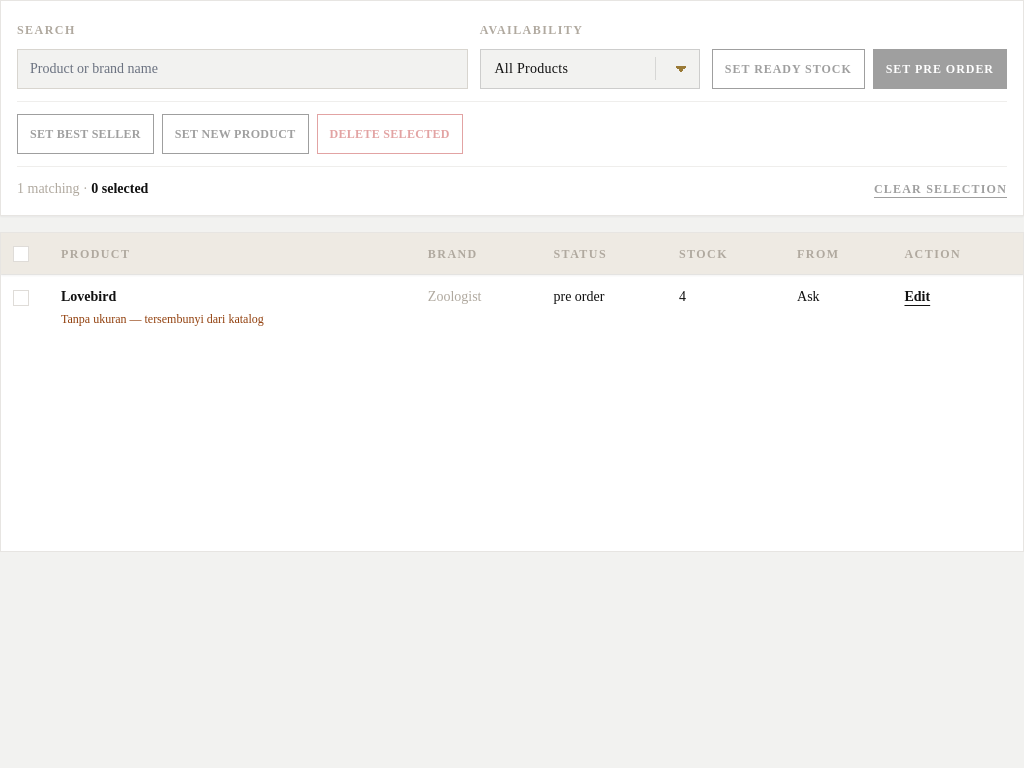
Test: catalog management UI › clears product selection on search and shows variantless indicator
Check: the text "Tanpa ukuran — tersembunyi dari katalog" is shown, box 61,311 -> 264,327
Click the checkbox named "Select Lovebird" at coordinates (21, 298), box 13,290 -> 29,306
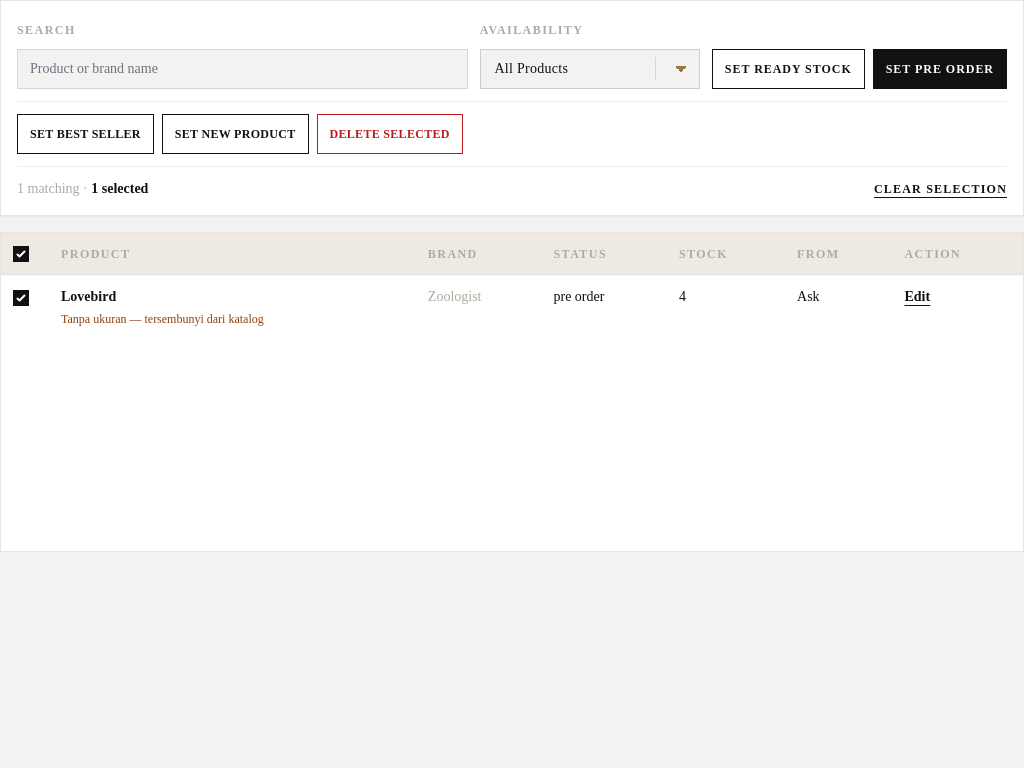
Type "Love" into the search field at coordinates (242, 69), box 17,49 -> 468,89
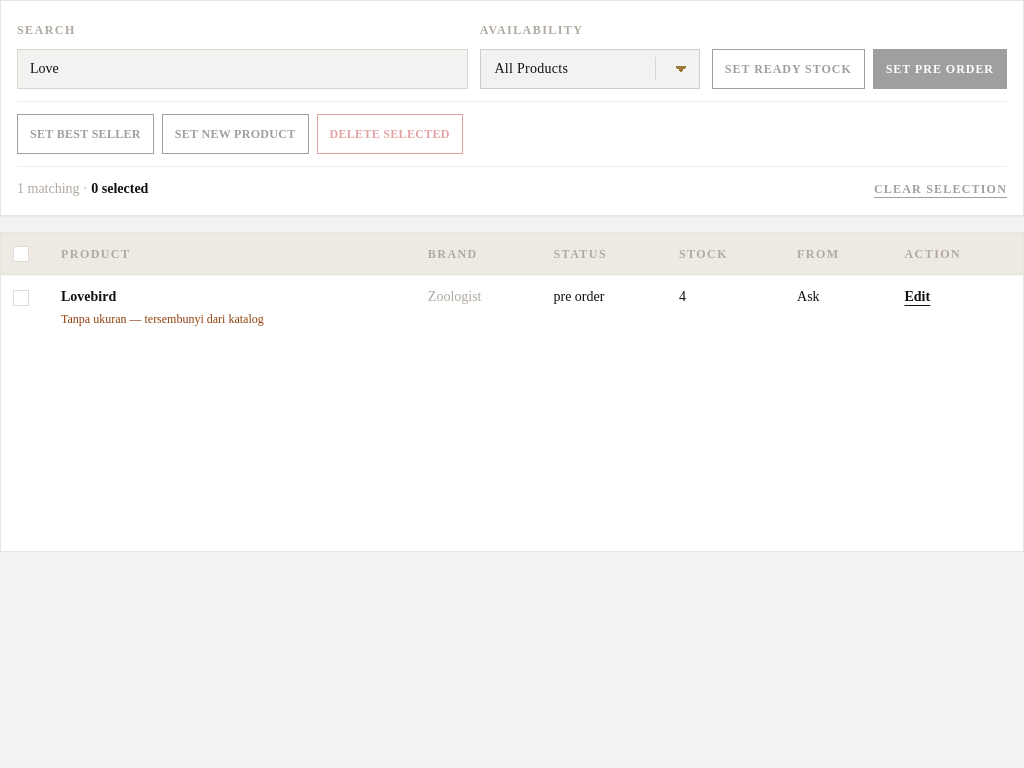
Check: the text "0 selected" is shown, box 91,181 -> 148,196
